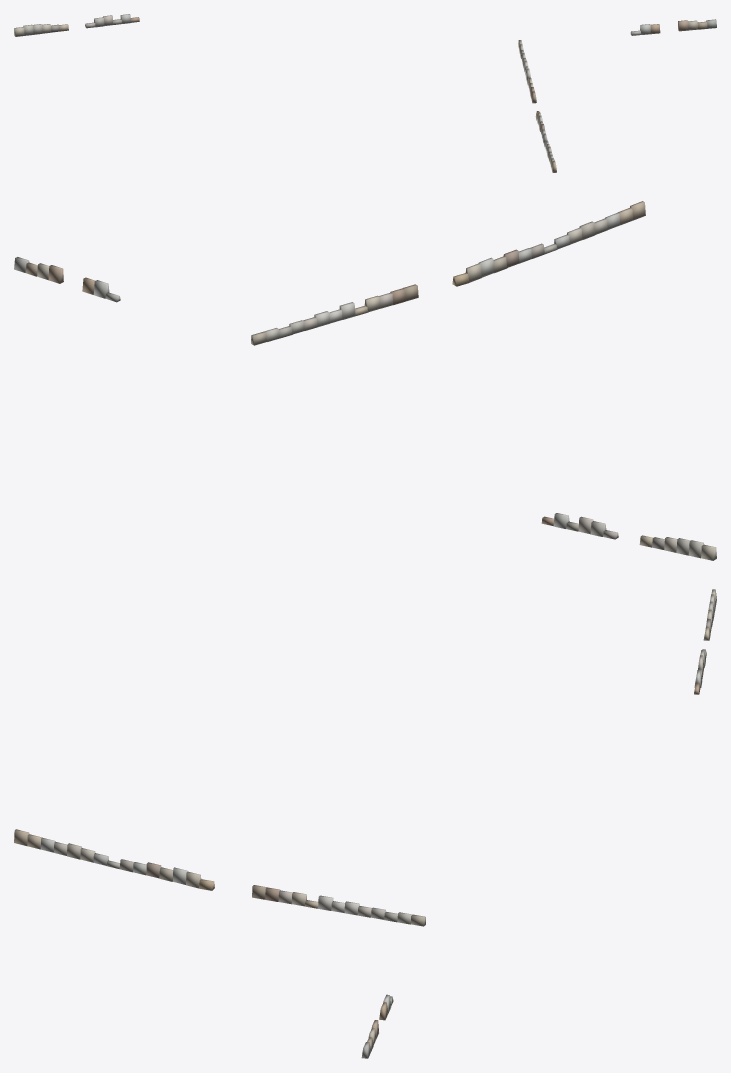
Rendered from farm_22_24_collision.glb.
3 renders of one model, top to bottom at view 1: azimuth 30°, elevation 25°; view 2: azimuth 150°, elevation 25°; view 3: azimuth 270°, elevation 25°, orthographic. The views are drawn at different scales.
Visible parts, largest first — view 1: geometry_0; view 2: geometry_0; view 3: geometry_0.
Boxes of the visible parts, x1,y1,x2,y2 form: geometry_0: (14, 14, 716, 172); geometry_0: (14, 201, 716, 560); geometry_0: (14, 589, 716, 1058).
Bounding box in the file's own units: 104 × 8.55 × 77.1.
